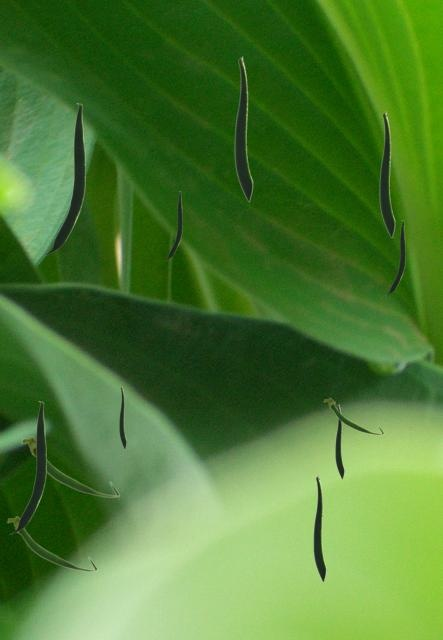french_bean: (43, 103, 84, 254), (20, 435, 119, 497), (6, 515, 97, 571), (9, 401, 45, 533), (234, 56, 252, 201), (323, 397, 383, 434), (379, 111, 394, 237), (386, 220, 404, 294), (313, 475, 325, 581), (165, 191, 181, 259), (335, 404, 343, 478), (119, 386, 125, 448)
